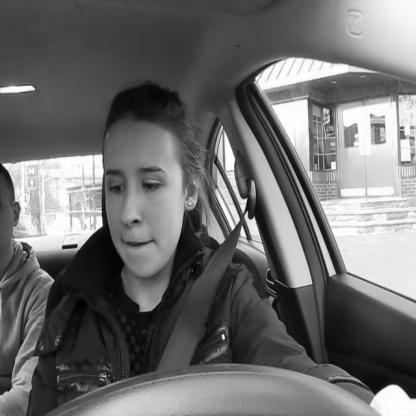seatbelt: (90, 70, 268, 370)
